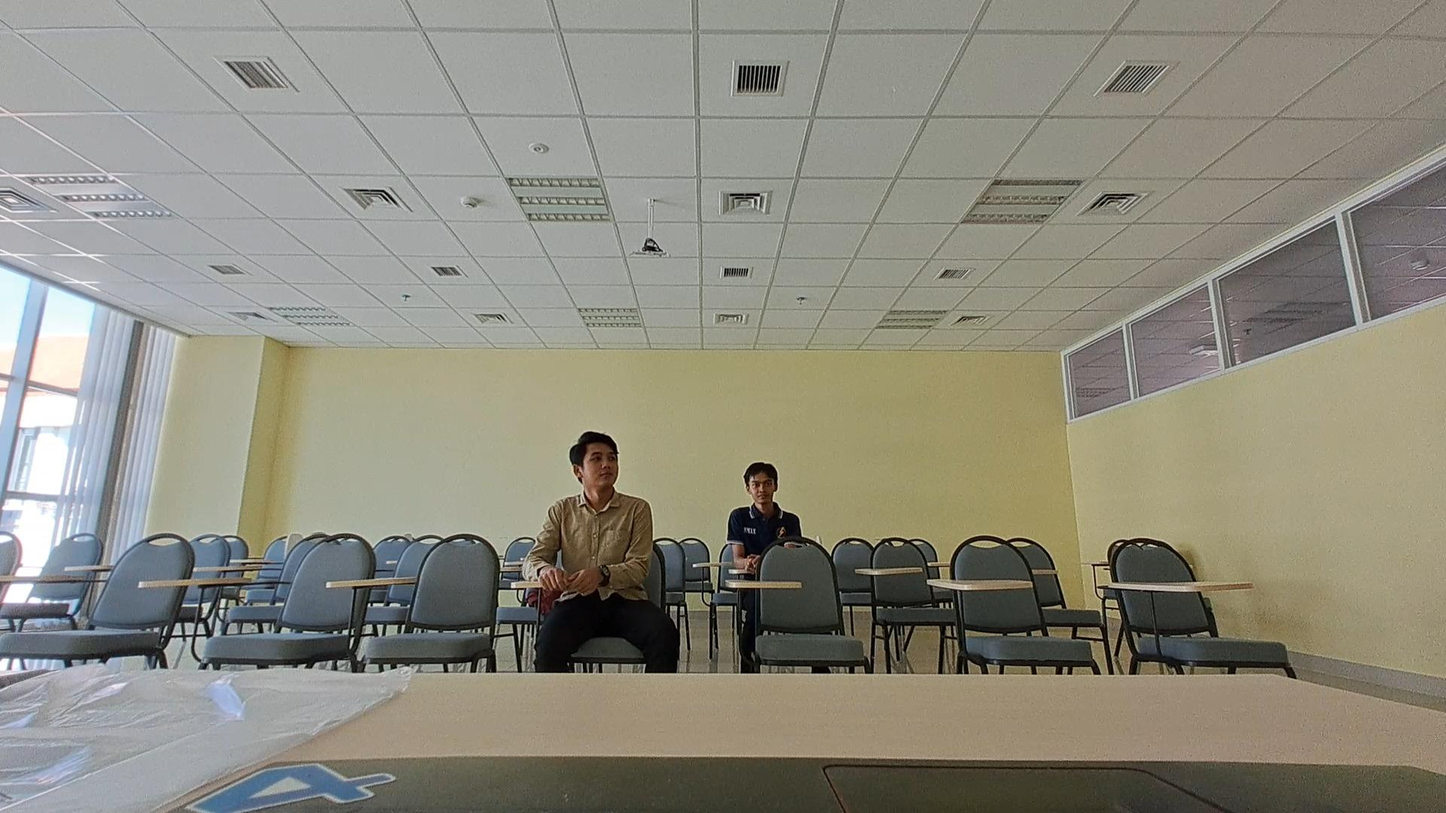study: (525, 429, 682, 678), (723, 454, 810, 580)
